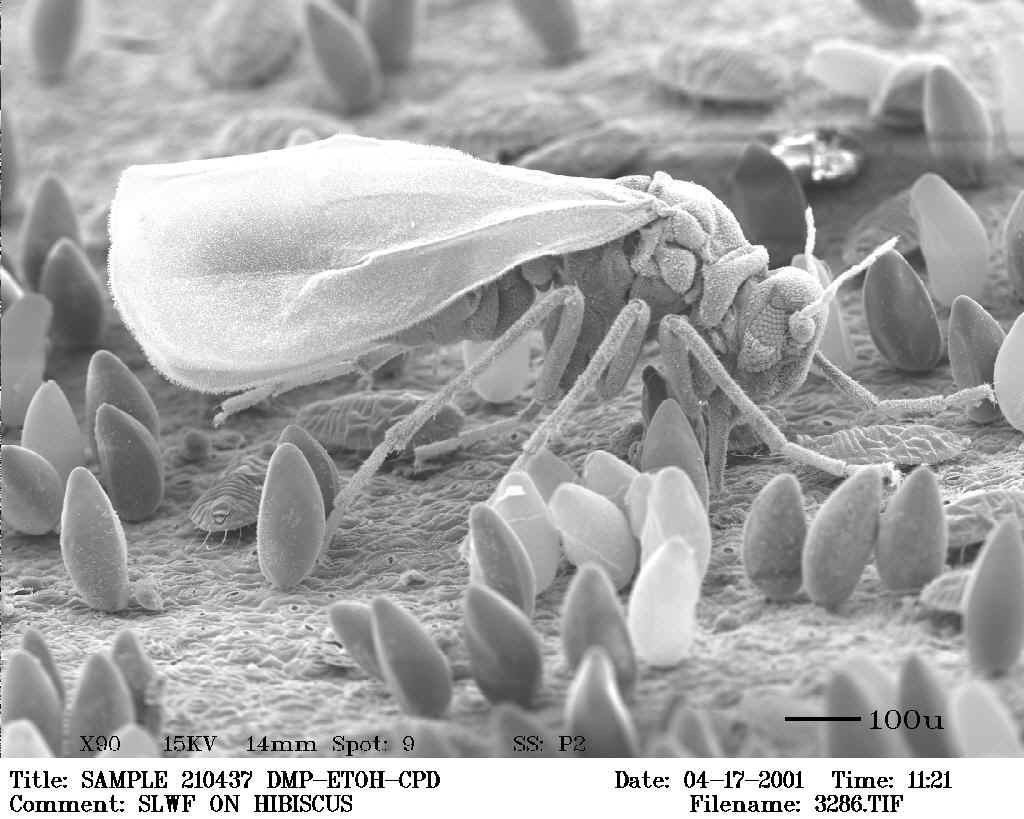whitefly: (110, 132, 969, 566)
